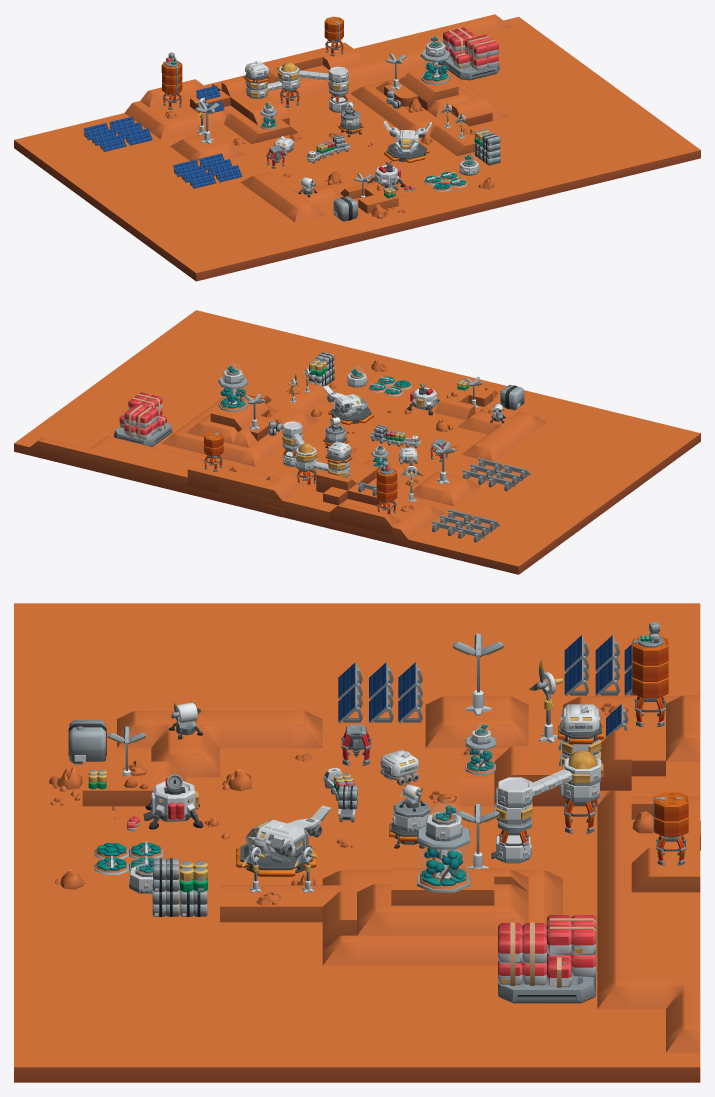
File: map-current-merged.glb
The picture shows the model from 3 angles, top to bottom: view 1: azimuth 30°, elevation 25°; view 2: azimuth 150°, elevation 25°; view 3: azimuth 270°, elevation 25°; orthographic projection. The views are drawn at different scales.
Parts seen in each view (by area): view 1: terrain_low.172, mobile_base_cargo.002, solarpanel.008, solarpanel.012, landingpad_small.001, eco_module.003, cargo_B_stacked.005, water_storage.007, basemodule_B.001, spacetruck.001, lander_A.001, space_farm_large.001 (+2 smaller); view 2: terrain_low.172, mobile_base_cargo.002, solarpanel.008, solarpanel.012, landingpad_small.001, eco_module.003, water_storage.007, cargo_B_stacked.005, spacetruck.001, basemodule_B.001, lander_A.001, space_farm_large.001 (+1 smaller); view 3: terrain_low.172, mobile_base_cargo.002, solarpanel.012, landingpad_small.001, cargo_B_stacked.005, solarpanel.008, eco_module.003, water_storage.007, lander_A.001, basemodule_B.001, cargo_B_packed, space_farm_large.001 (+15 smaller).
Boxes of the visible parts, bbox=[...] form: terrain_low.172: bbox=[14, 14, 700, 281]; mobile_base_cargo.002: bbox=[441, 27, 500, 80]; solarpanel.008: bbox=[83, 116, 152, 151]; solarpanel.012: bbox=[173, 153, 242, 188]; landingpad_small.001: bbox=[383, 121, 431, 162]; eco_module.003: bbox=[420, 49, 450, 84]; cargo_B_stacked.005: bbox=[474, 129, 500, 165]; water_storage.007: bbox=[161, 52, 182, 94]; basemodule_B.001: bbox=[243, 60, 270, 90]; spacetruck.001: bbox=[306, 135, 350, 163]; lander_A.001: bbox=[367, 161, 405, 190]; space_farm_large.001: bbox=[423, 171, 467, 191]; terrain_low.172: bbox=[14, 310, 700, 574]; mobile_base_cargo.002: bbox=[114, 392, 172, 446]; solarpanel.008: bbox=[431, 509, 500, 542]; solarpanel.012: bbox=[461, 457, 530, 491]; landingpad_small.001: bbox=[323, 385, 373, 424]; eco_module.003: bbox=[218, 376, 248, 411]; water_storage.007: bbox=[376, 461, 397, 501]; cargo_B_stacked.005: bbox=[308, 352, 334, 386]; spacetruck.001: bbox=[369, 424, 420, 447]; basemodule_B.001: bbox=[325, 441, 352, 470]; lander_A.001: bbox=[406, 384, 439, 415]; space_farm_large.001: bbox=[368, 376, 412, 396]; terrain_low.172: bbox=[14, 603, 700, 1082]; mobile_base_cargo.002: bbox=[497, 915, 596, 1003]; solarpanel.012: bbox=[338, 662, 422, 723]; landingpad_small.001: bbox=[236, 805, 331, 876]; cargo_B_stacked.005: bbox=[152, 858, 207, 916]; solarpanel.008: bbox=[564, 635, 641, 696]; eco_module.003: bbox=[417, 826, 470, 892]; water_storage.007: bbox=[631, 622, 668, 698]; lander_A.001: bbox=[143, 774, 203, 829]; basemodule_B.001: bbox=[558, 704, 603, 756]; cargo_B_packed: bbox=[68, 720, 106, 764]; space_farm_large.001: bbox=[94, 841, 163, 874].
Bounding box in the file's own units: 64 × 9.14 × 40.05.
44 materials, 42 textured.
